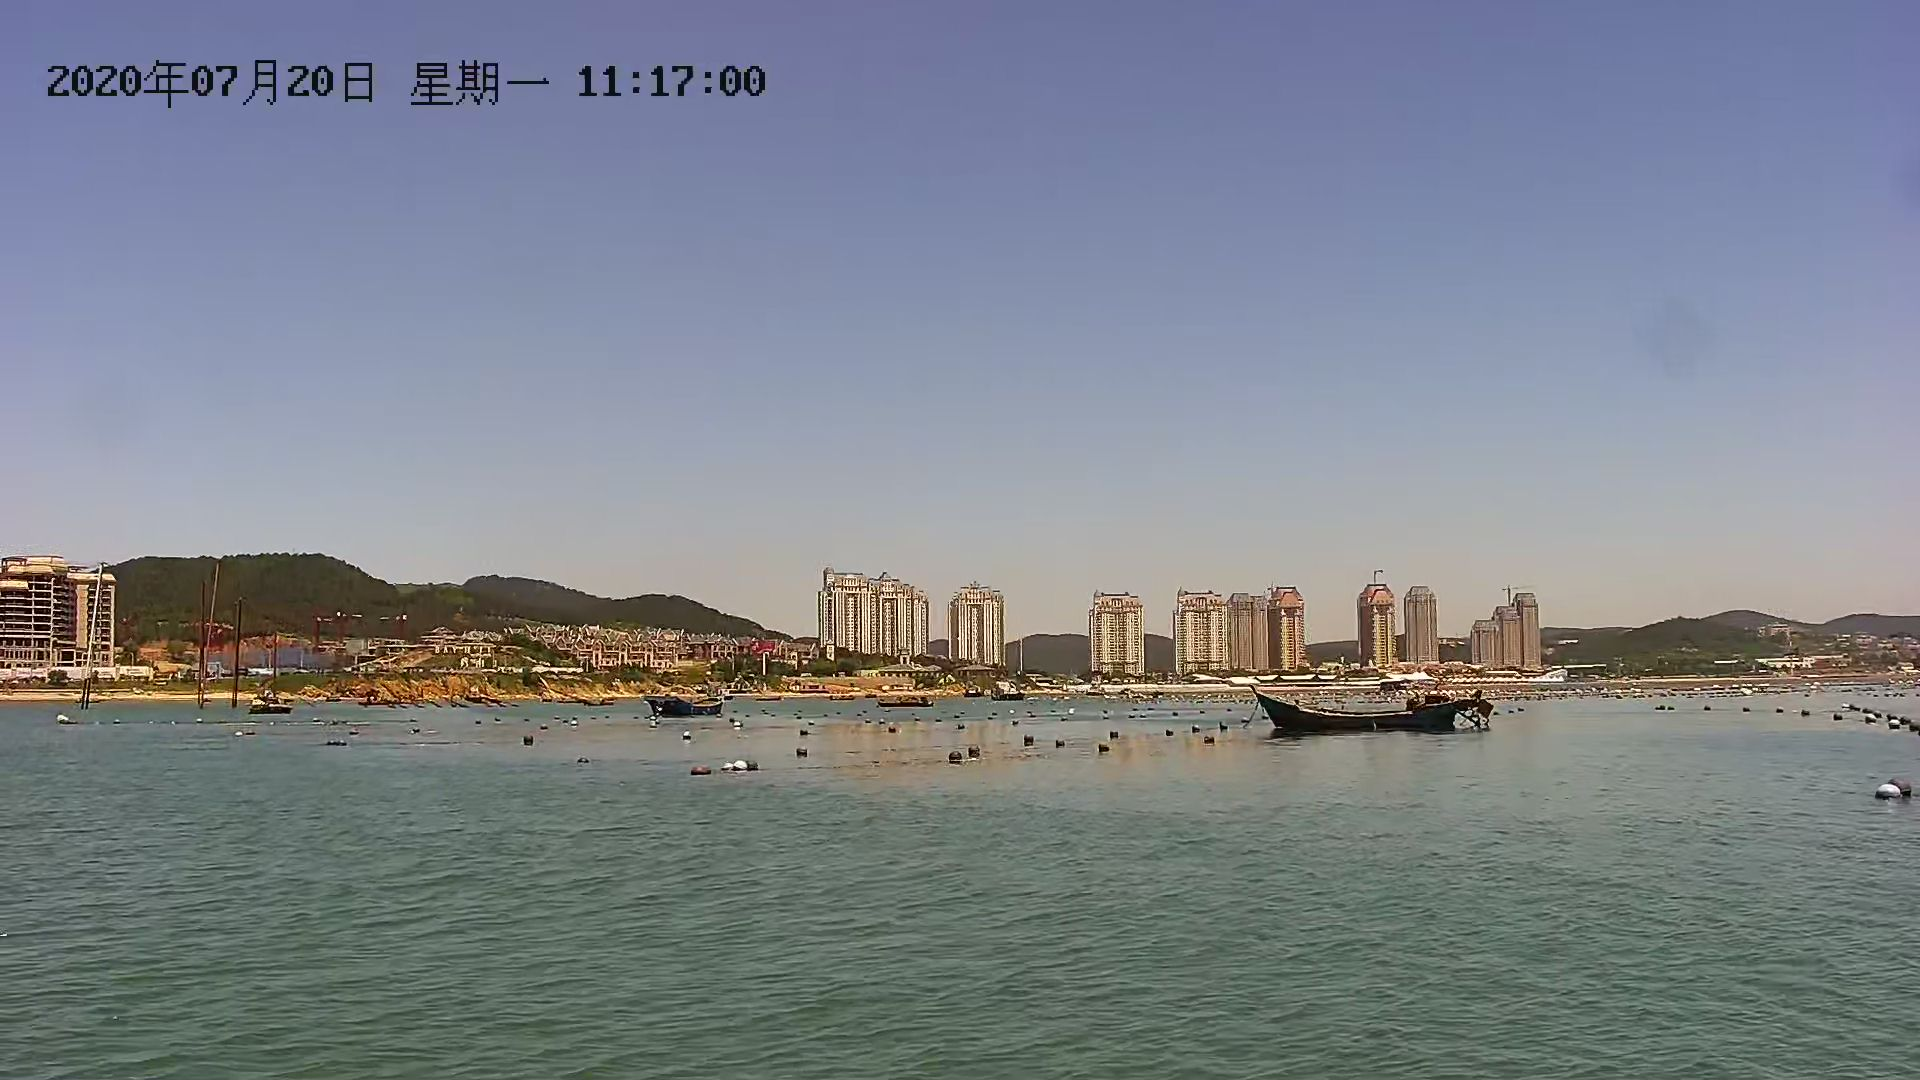ball: (1869, 774, 1917, 807), (684, 760, 723, 774), (943, 748, 964, 765), (1014, 733, 1036, 748), (1196, 733, 1222, 745), (961, 746, 982, 757), (1093, 742, 1106, 754)
boat: (1247, 680, 1487, 735), (651, 694, 738, 724)
